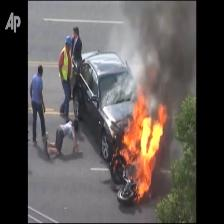fire: (131, 114, 162, 179)
smoke: (140, 14, 193, 94)
